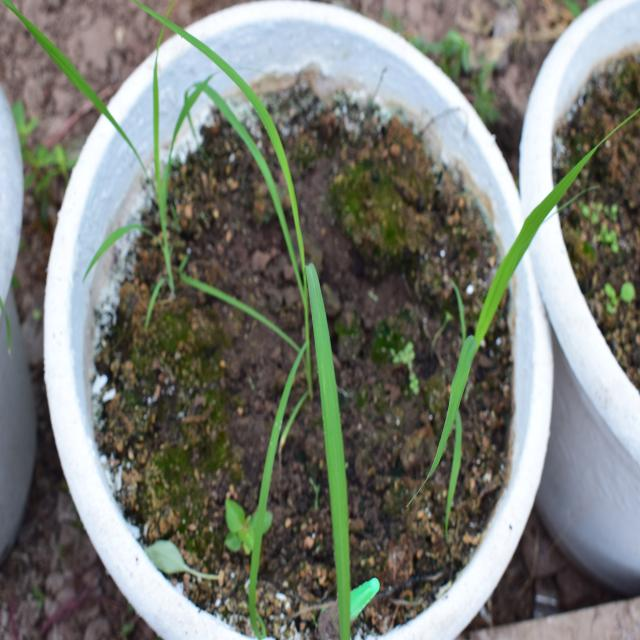barnyard_grass: (159, 45, 387, 598), (414, 119, 602, 509)
